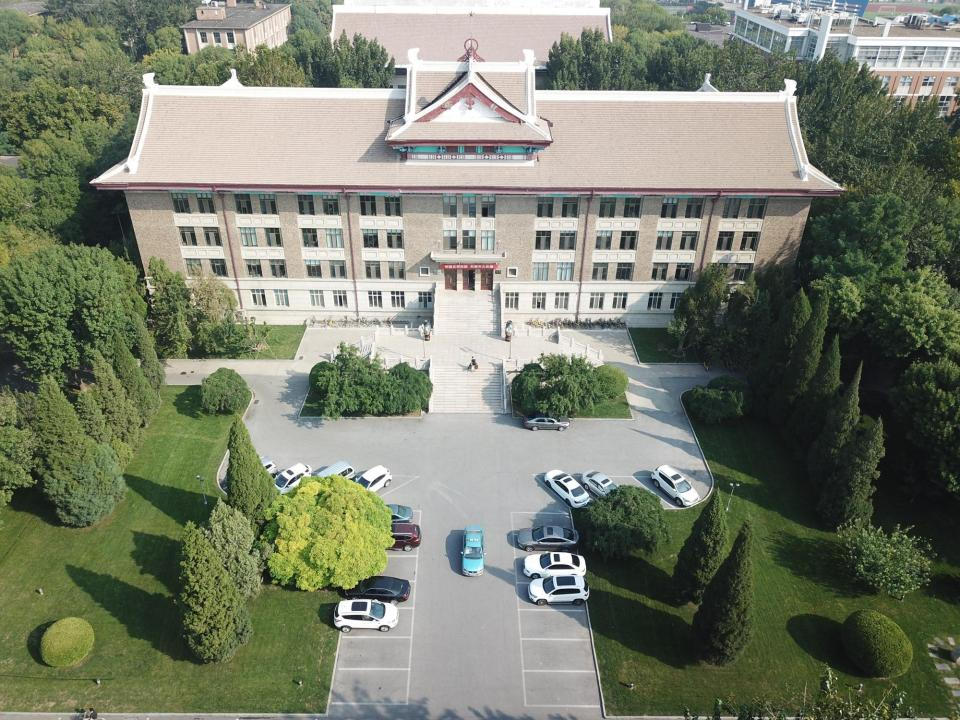car: (333, 598, 399, 632), (651, 464, 699, 507), (345, 576, 411, 606), (528, 576, 590, 606), (544, 468, 590, 508), (523, 552, 587, 579), (517, 526, 580, 552), (365, 523, 421, 552), (581, 469, 626, 505), (348, 464, 391, 497), (236, 456, 278, 488), (460, 526, 486, 577), (274, 463, 311, 496), (361, 504, 413, 523), (523, 412, 570, 431)
van: (312, 459, 356, 494)
